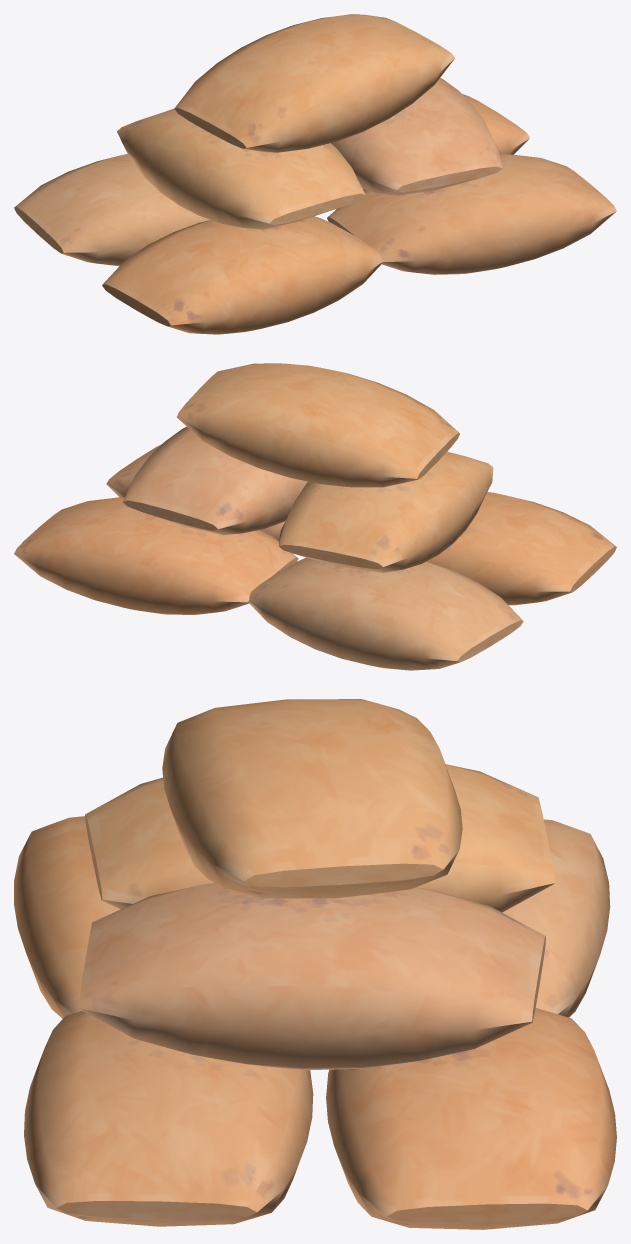
Rendered from sacks.fbx.
The picture shows the model from 3 angles, top to bottom: view 1: azimuth 30°, elevation 25°; view 2: azimuth 150°, elevation 25°; view 3: azimuth 270°, elevation 25°; orthographic projection. The views are drawn at different scales.
Parts seen in each view (by area): view 1: sacks; view 2: sacks; view 3: sacks.
Part boxes in pixels (<box>): sacks: <box>14,14,616,334</box>; sacks: <box>14,363,616,670</box>; sacks: <box>14,699,616,1229</box>.
Size of the model in its own units: 6.15 by 2.61 by 3.98.
Materials: 1 (1 with a texture image).
